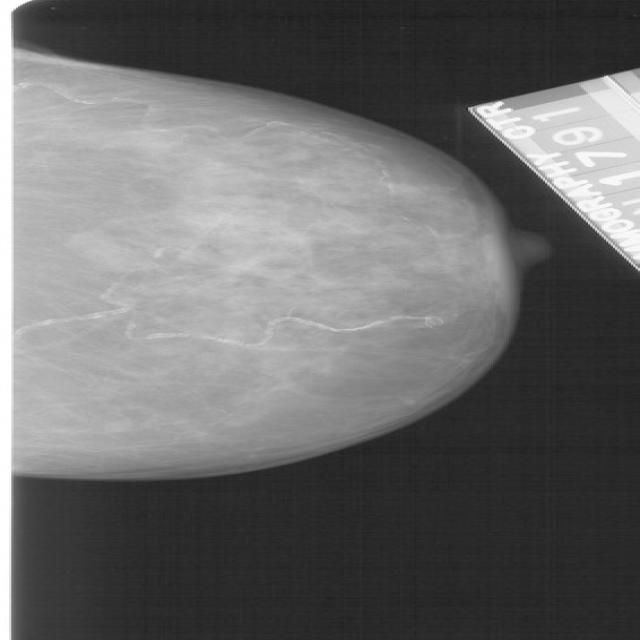tumour: (208, 254, 262, 278)
